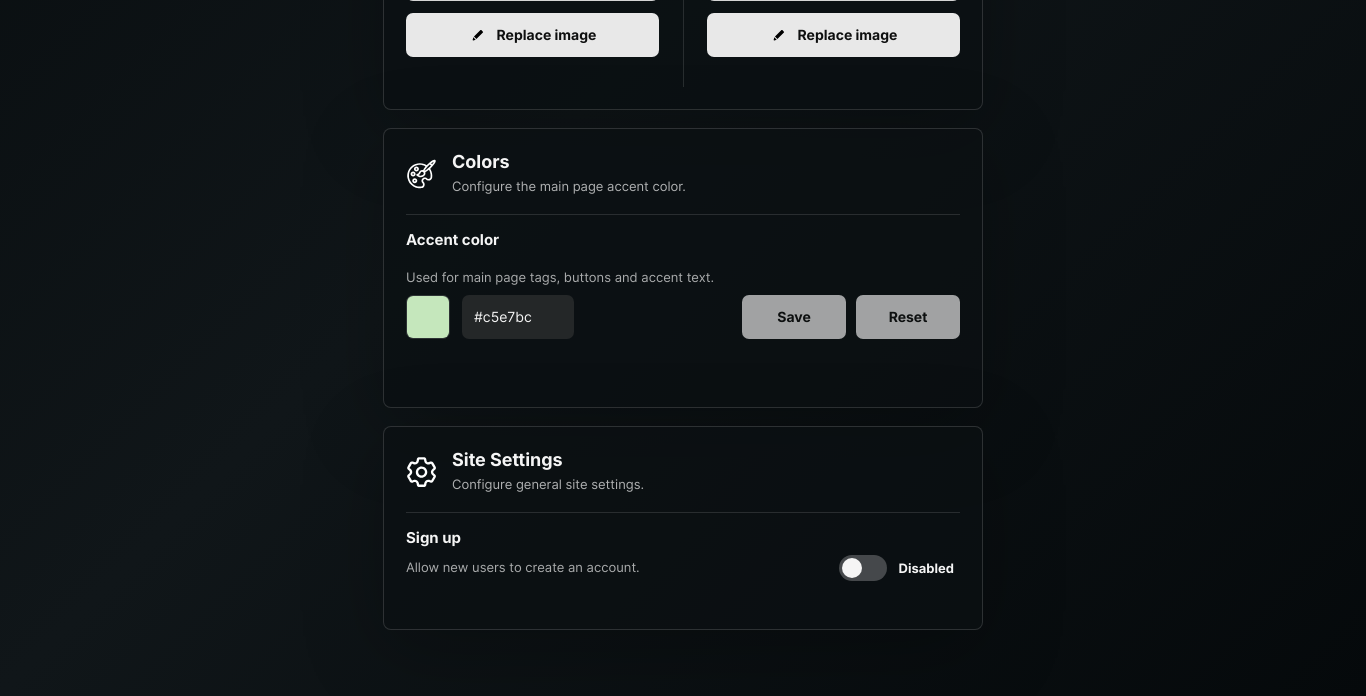
Test: Profile settings › disables accent color save button until color changes
The image size is (1366, 696).
(page scrolled)
Expected: the button "Save" is disabled, top-left (742, 295), bottom-right (846, 339)
Expected: the button "Reset" is disabled, top-left (856, 295), bottom-right (960, 339)
Replace the text in the field named "Accent color hex value" with "#C5E7BC" at (518, 317), box top-left (462, 295), bottom-right (574, 339)
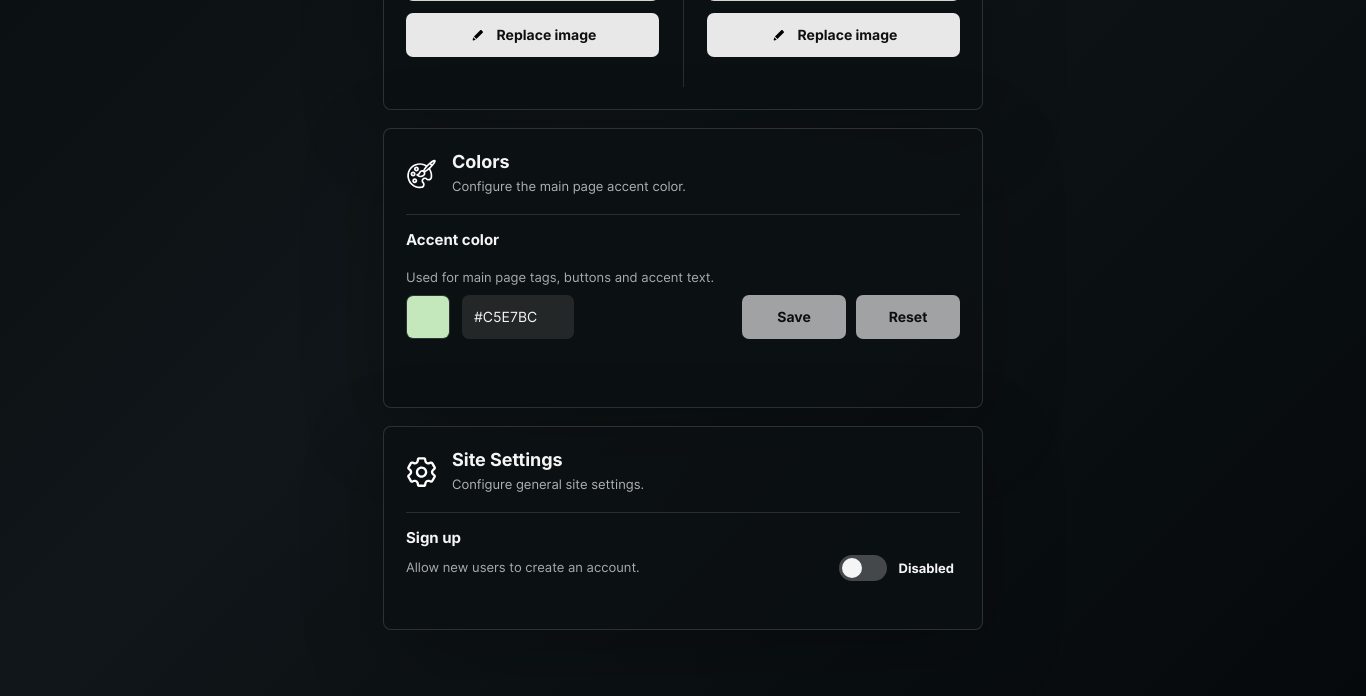
Expected: the button "Save" is disabled, top-left (742, 295), bottom-right (846, 339)
Expected: the button "Reset" is disabled, top-left (856, 295), bottom-right (960, 339)
Replace the text in the field named "Accent color hex value" with "#aabbcc" at (518, 317), box top-left (462, 295), bottom-right (574, 339)
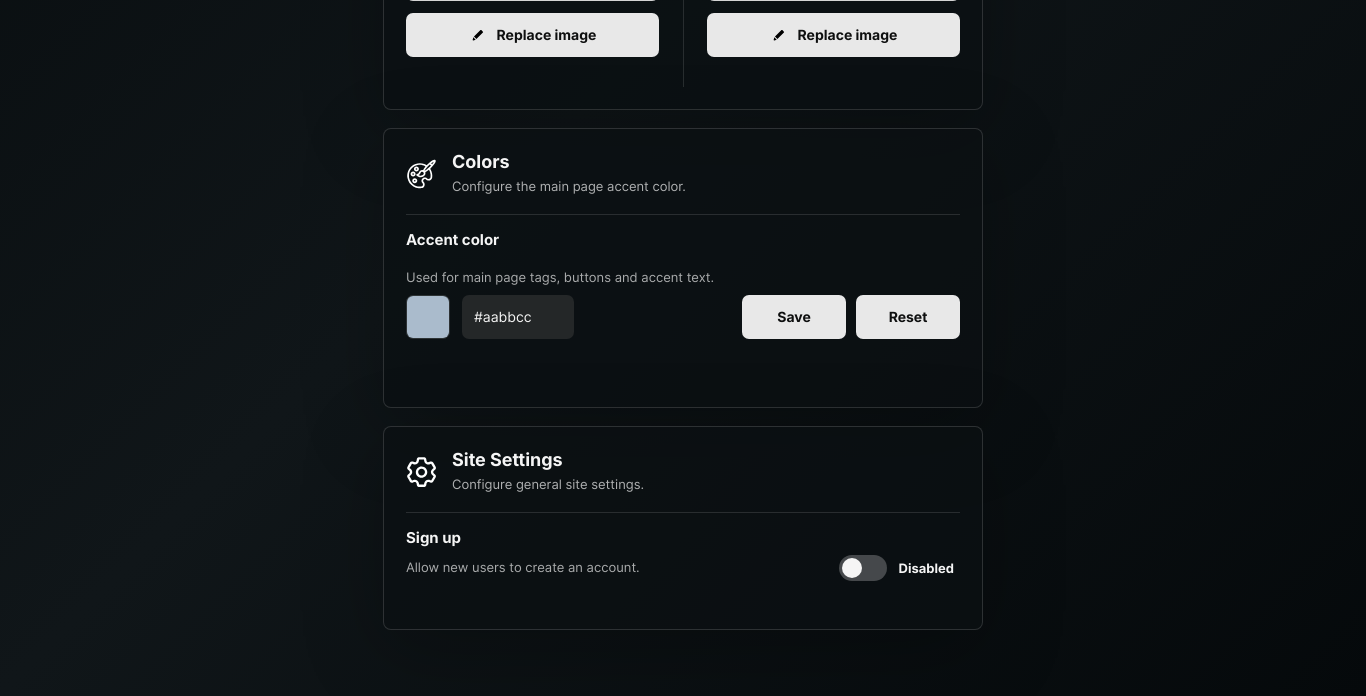
Expected: the button "Save" is enabled, top-left (742, 295), bottom-right (846, 339)
Expected: the button "Reset" is enabled, top-left (856, 295), bottom-right (960, 339)
